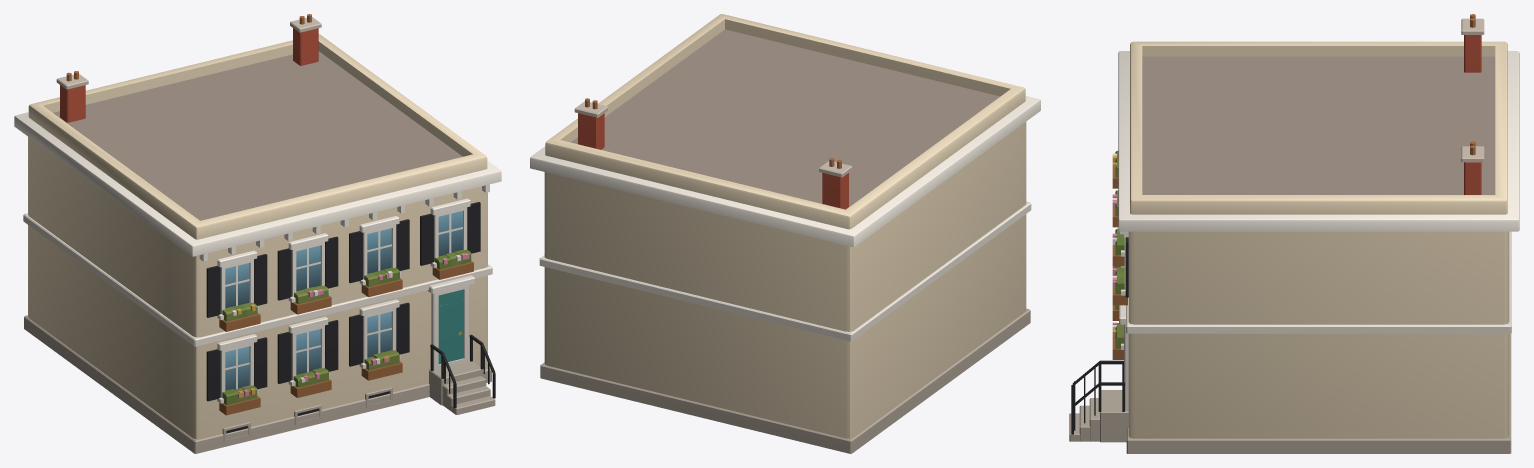
Rendered from beacon_ne4.glb.
The picture shows the model from 3 angles, left to right: view 1: azimuth 30°, elevation 25°; view 2: azimuth 150°, elevation 25°; view 3: azimuth 270°, elevation 25°; orthographic projection. The views are drawn at different scales.
Visible parts, largest first — view 1: beacon_ne4; view 2: beacon_ne4; view 3: beacon_ne4.
Part boxes in pixels (x1,y1,x2,y2): beacon_ne4: (14, 14, 501, 453); beacon_ne4: (530, 14, 1040, 453); beacon_ne4: (1069, 14, 1519, 453).
Bounding box in the file's own units: 12.64 × 10.14 × 14.18.
1 material, 1 textured.
